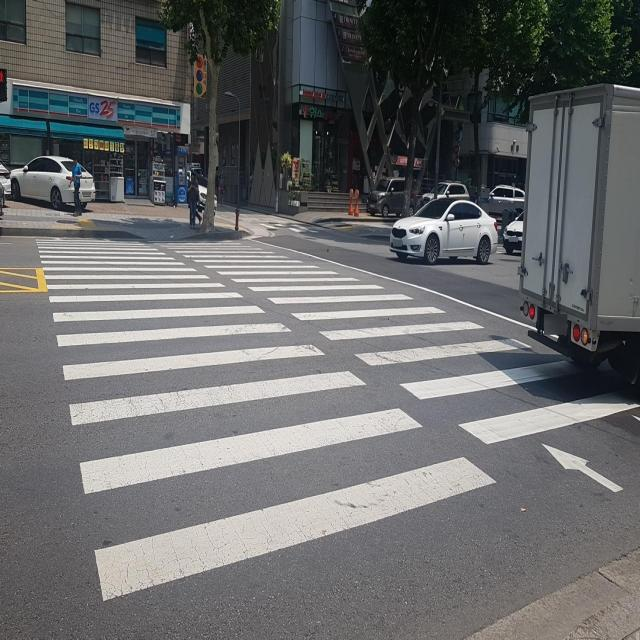횡단보도: (36, 235, 640, 607), (252, 220, 328, 234)
